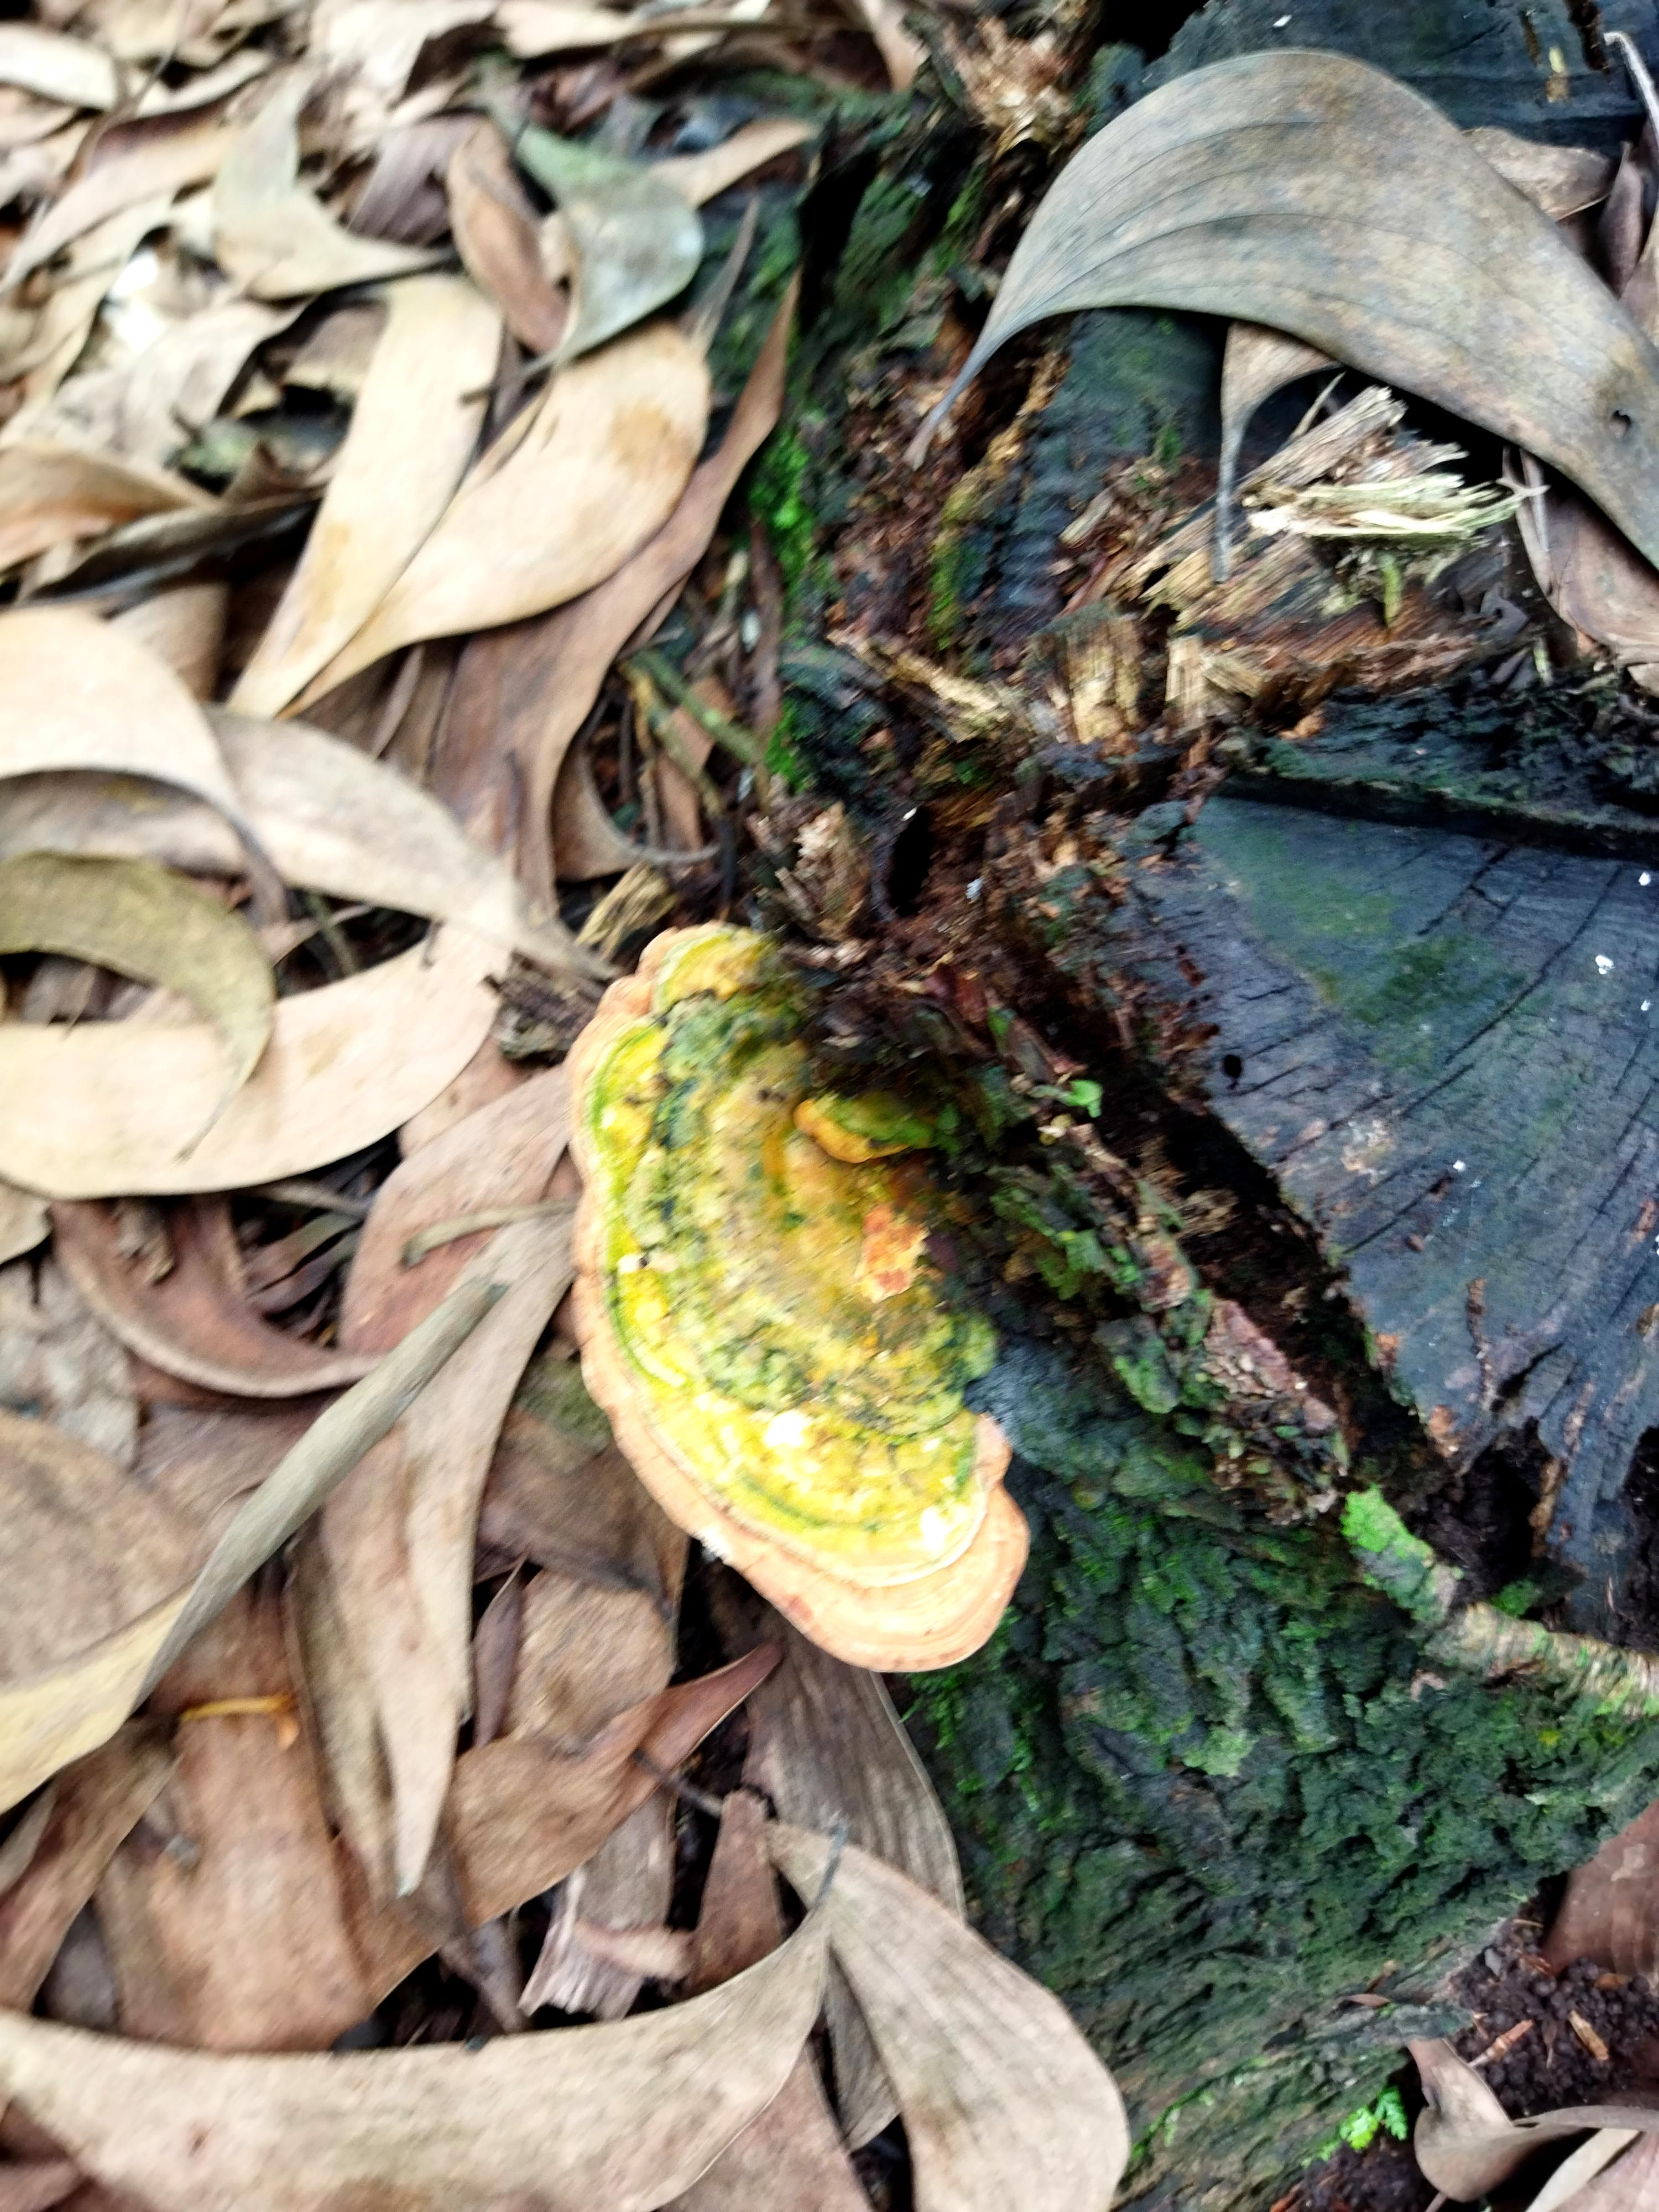Ganoderma - Fruit Body: (570, 925, 1049, 1689)
